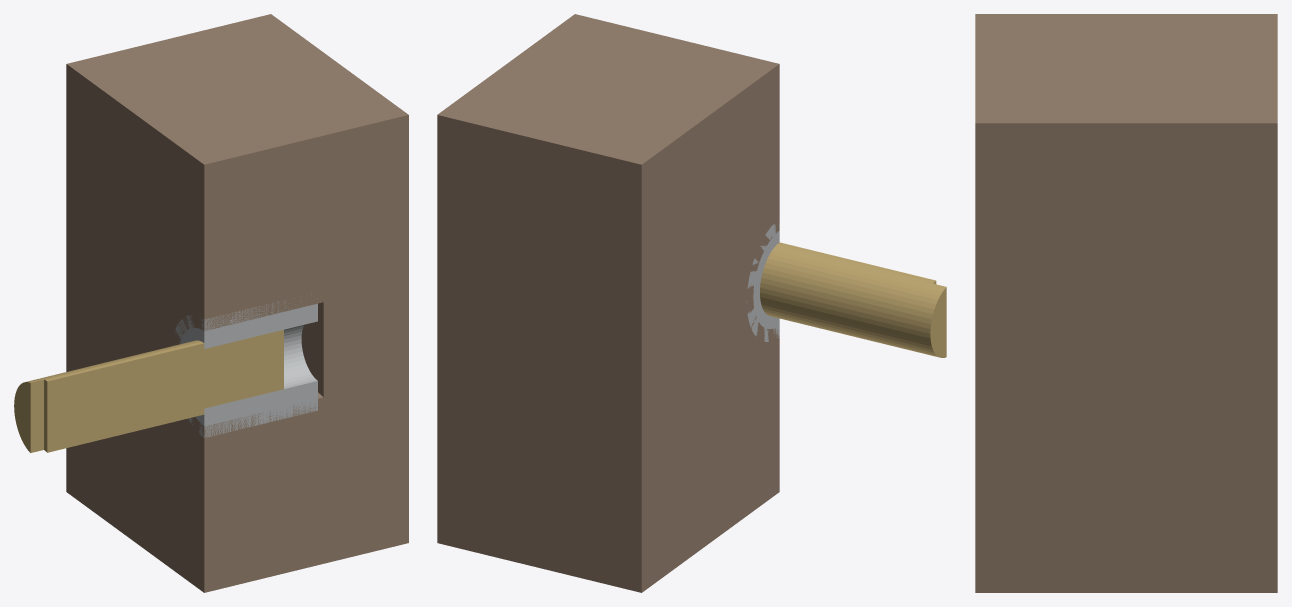
The model's file is axis-r-section.glb.
3 views of the same model, side by side, from view 1: azimuth 30°, elevation 25°; view 2: azimuth 150°, elevation 25°; view 3: azimuth 270°, elevation 25° (orthographic). The views are drawn at different scales.
Visible parts, largest first — view 1: Right-wall-18, Pin-R-1, Axle-insert-R-1-M5x10; view 2: Right-wall-18, Pin-R-1, Axle-insert-R-1-M5x10; view 3: Right-wall-18.
Part boxes in pixels (x1,y1,x2,y2): Right-wall-18: [66, 14, 408, 592]; Pin-R-1: [14, 330, 283, 452]; Axle-insert-R-1-M5x10: [172, 293, 317, 437]; Right-wall-18: [437, 14, 779, 592]; Pin-R-1: [760, 242, 946, 357]; Axle-insert-R-1-M5x10: [746, 222, 779, 341]; Right-wall-18: [975, 14, 1277, 592].
Bounding box in the file's own units: 0.033 × 0.036 × 0.021.
